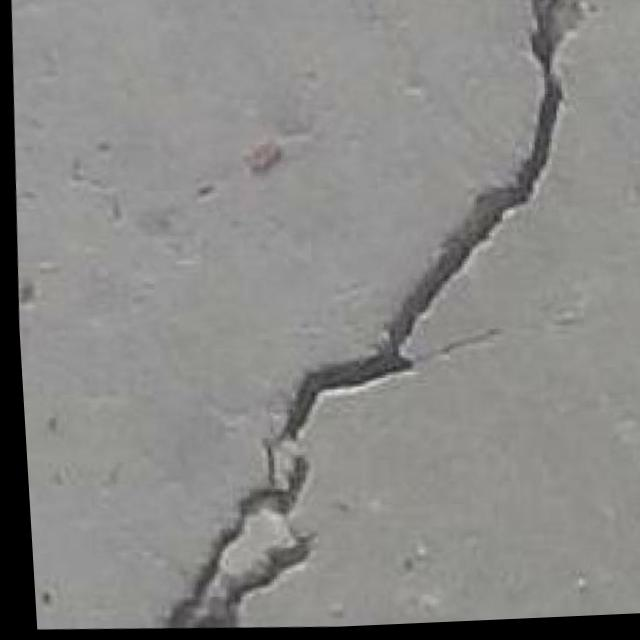Crack: (123, 0, 630, 636)
